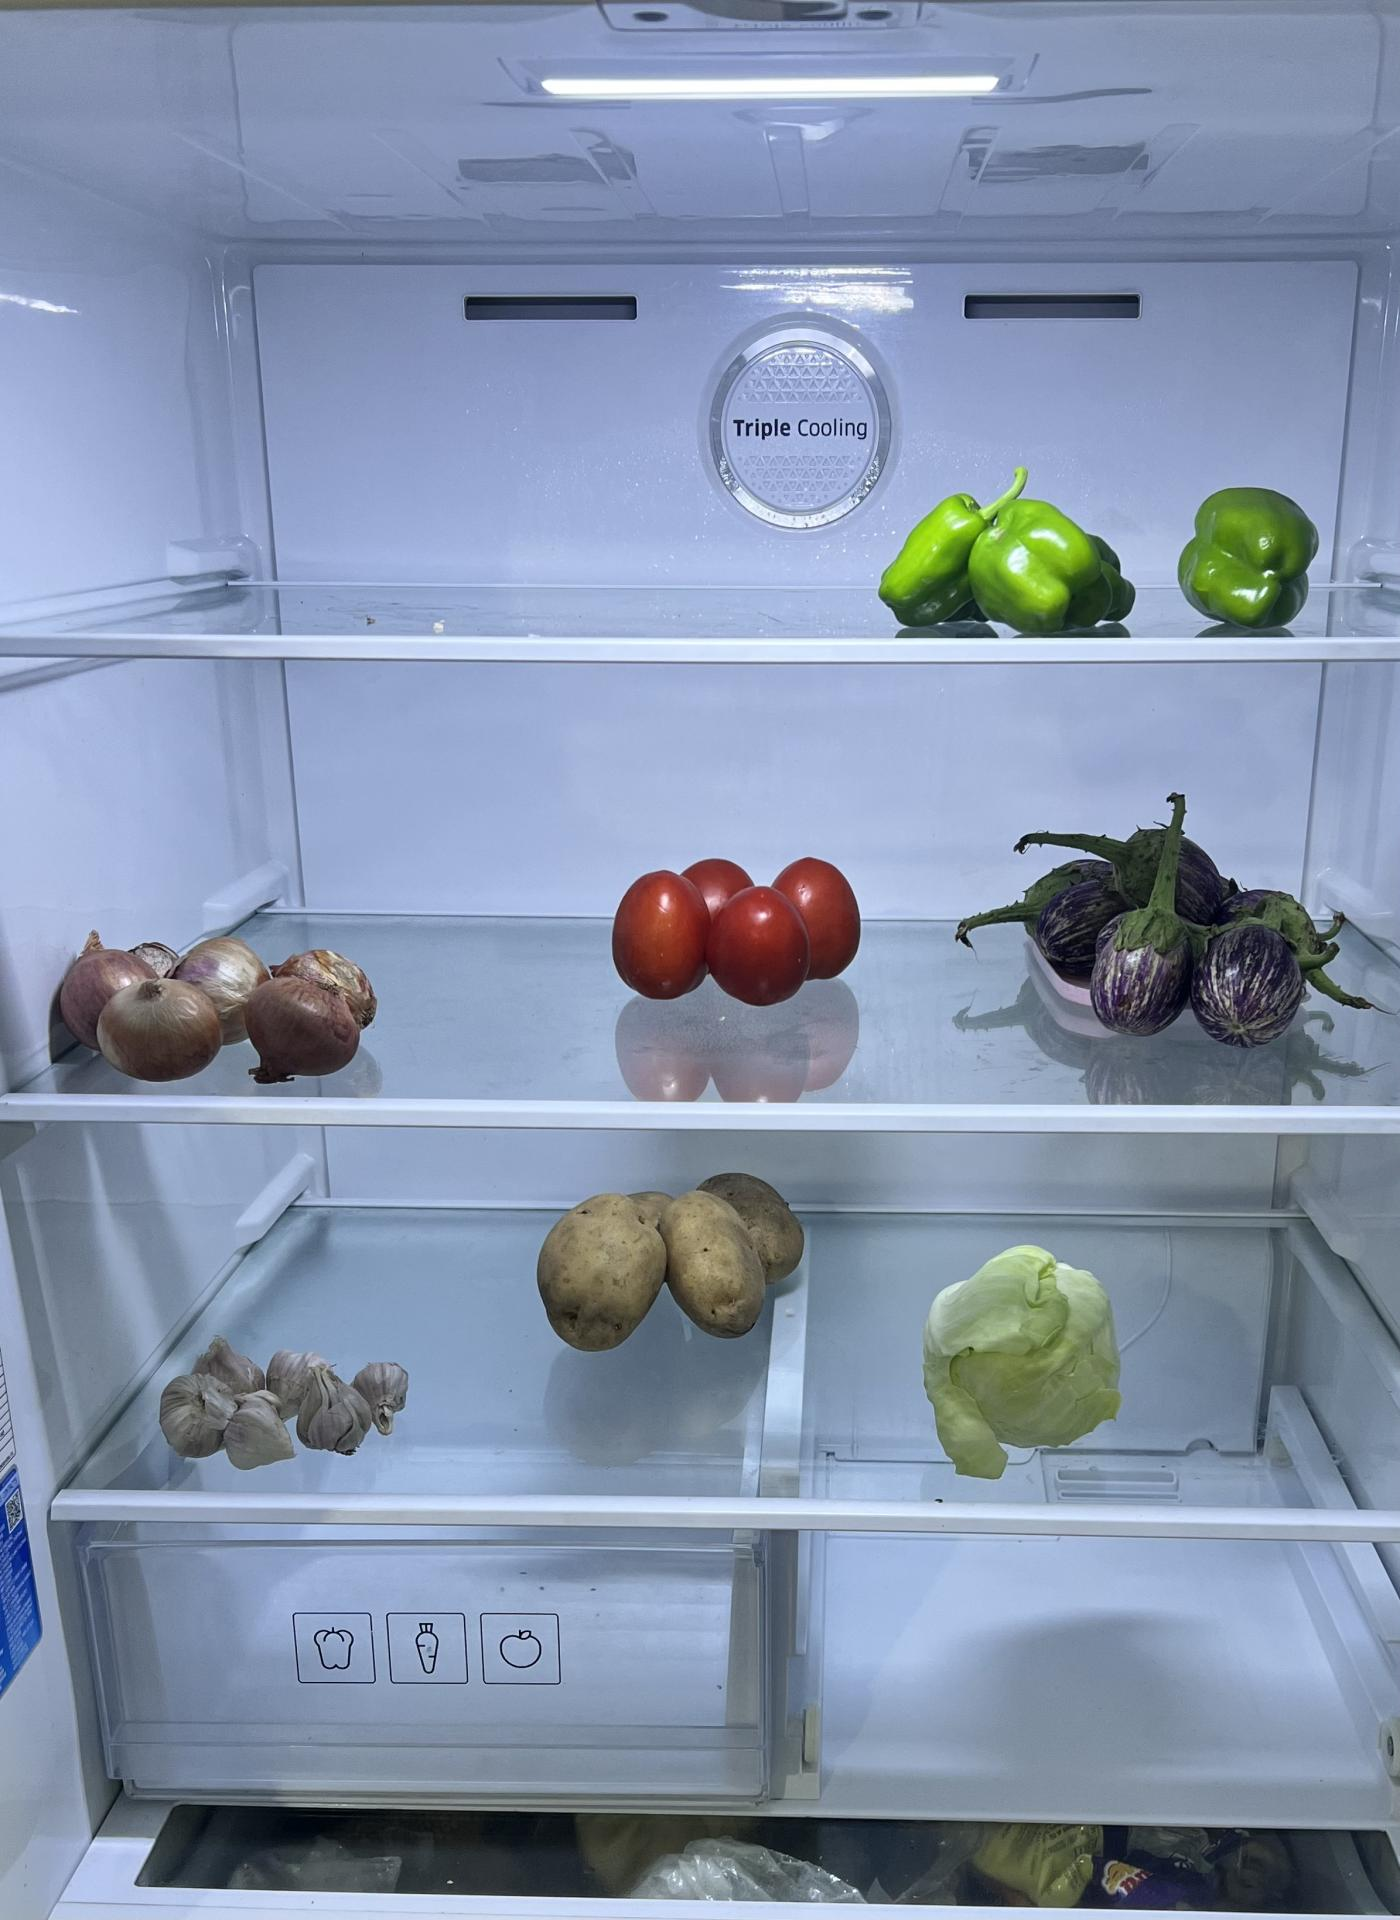brinjal: (1005, 815, 1303, 1039)
cabbage: (924, 1243, 1126, 1477)
capsicum: (874, 481, 1133, 638), (1173, 477, 1321, 626)
garlic: (161, 1339, 406, 1465)
onion: (52, 926, 388, 1090)
potato: (532, 1166, 804, 1349)
tomato: (616, 856, 872, 1014)
